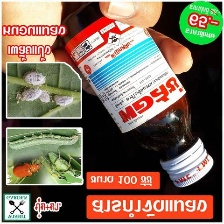insecticide: (55, 0, 215, 190)
